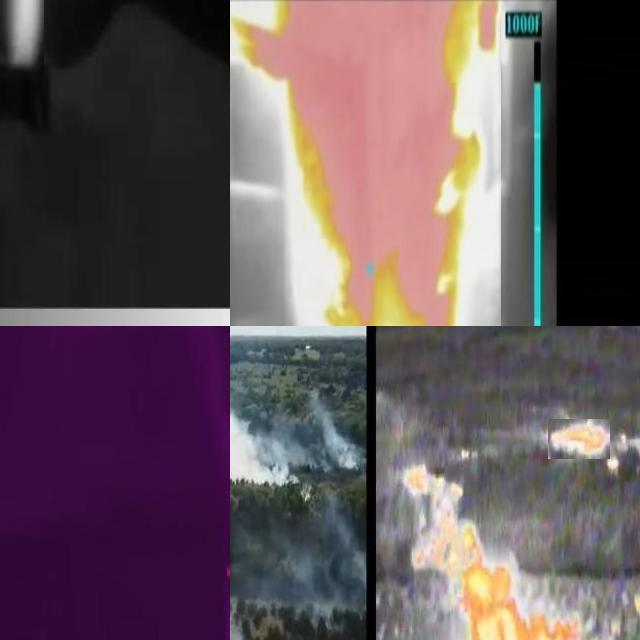fire: (231, 1, 502, 327), (404, 460, 495, 574), (459, 561, 586, 640), (1, 1, 45, 74), (549, 420, 611, 460)
